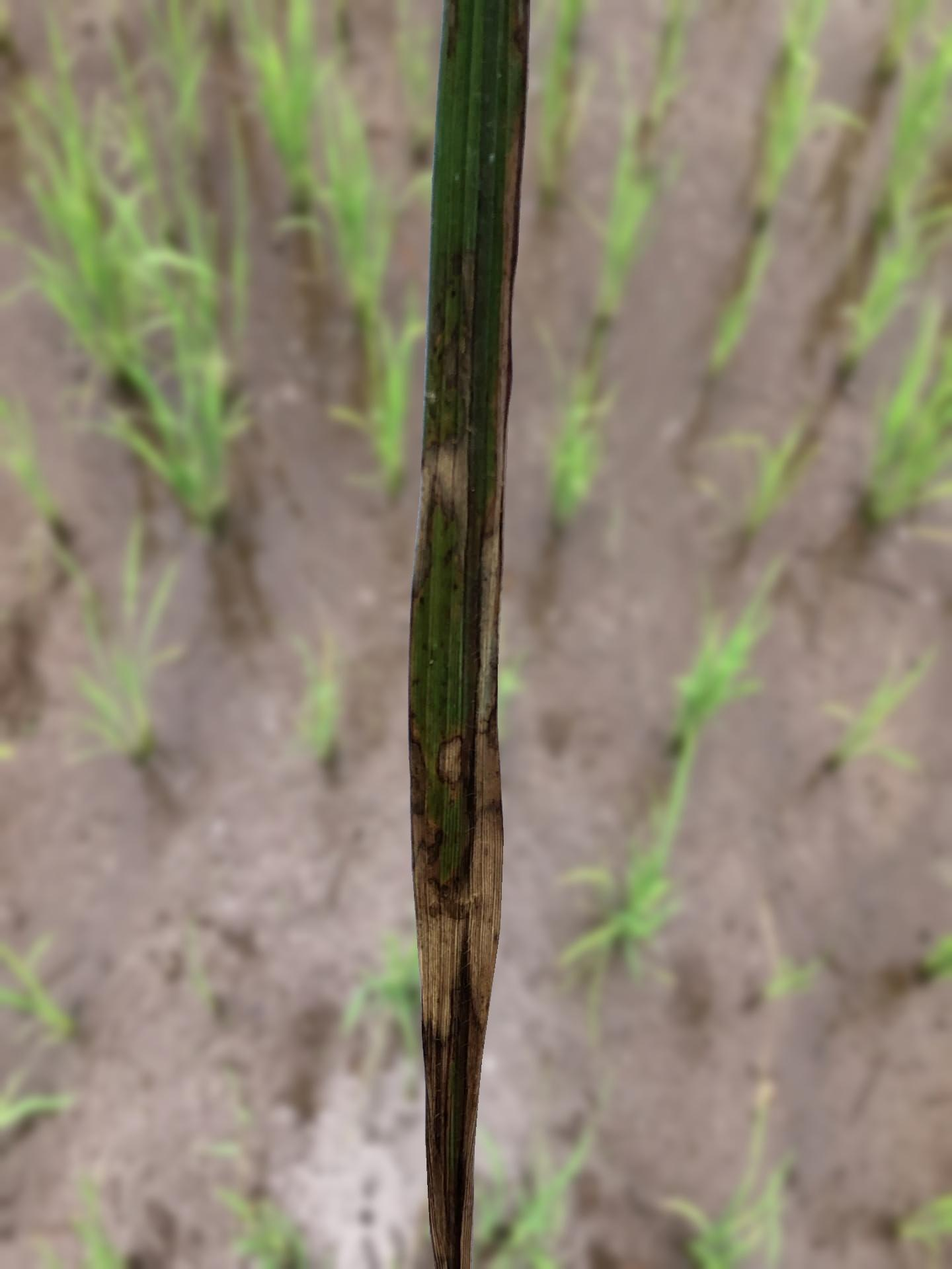BLB: (409, 0, 529, 1268)
LEAF: (408, 0, 530, 1268)
